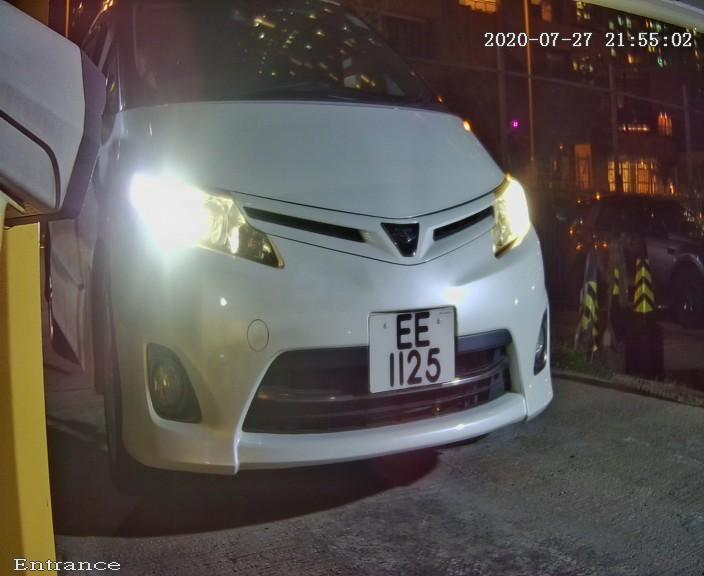privatecar: (41, 6, 585, 535)
